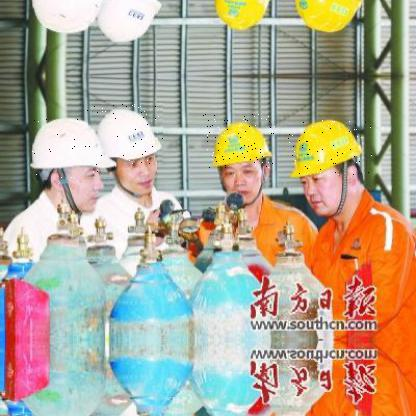safetyhelmet: (25, 118, 116, 180), (288, 121, 374, 178), (87, 104, 164, 166), (203, 115, 276, 170)
